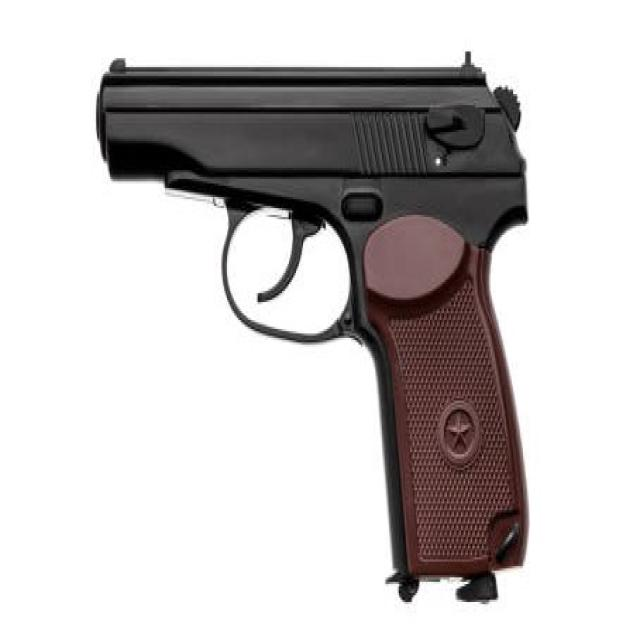pistol: (91, 48, 541, 614)
